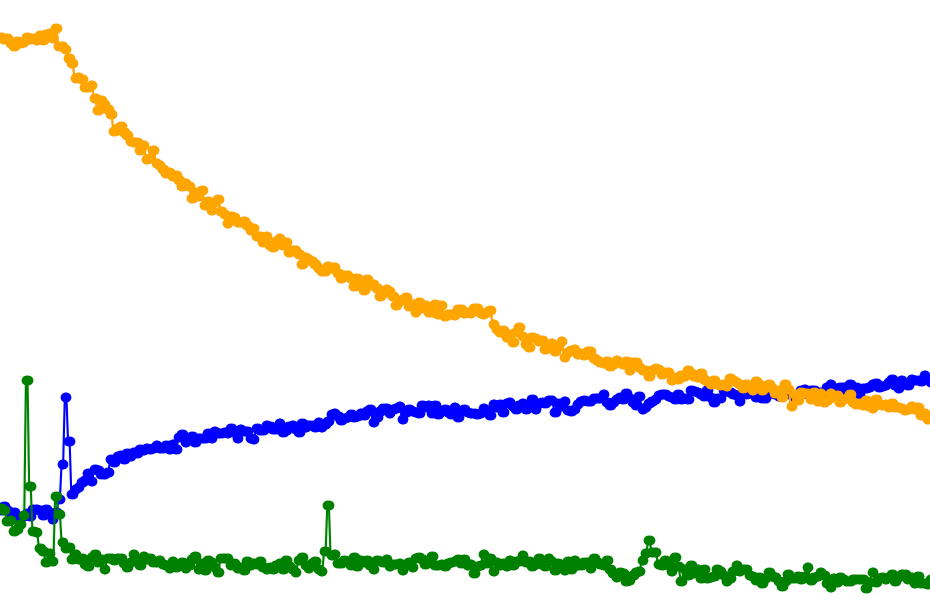CO2 Problem: (116, 0, 930, 616), (622, 0, 930, 616), (38, 0, 116, 616)
Condensation (CO2): (116, 0, 349, 616), (38, 0, 116, 616)
High CO2: (661, 0, 816, 616), (816, 0, 930, 616)
Lid Open: (816, 0, 930, 616)
Low CO2: (116, 0, 930, 616), (311, 0, 622, 616), (622, 0, 930, 616), (388, 0, 622, 616), (116, 0, 349, 616), (622, 0, 816, 616), (816, 0, 930, 616), (38, 0, 116, 616), (311, 0, 388, 616)
Normal: (38, 0, 930, 616), (116, 0, 930, 616), (388, 0, 930, 616), (116, 0, 622, 616), (38, 0, 505, 616), (194, 0, 622, 616), (38, 0, 349, 616), (311, 0, 622, 616), (622, 0, 930, 616), (388, 0, 622, 616), (622, 0, 816, 616), (116, 0, 272, 616), (661, 0, 816, 616), (194, 0, 311, 616), (0, 0, 116, 616), (816, 0, 930, 616), (38, 0, 116, 616), (116, 0, 194, 616), (311, 0, 388, 616)
O2 Problem: (116, 0, 930, 616), (311, 0, 622, 616), (622, 0, 930, 616), (388, 0, 622, 616), (622, 0, 816, 616), (116, 0, 272, 616), (816, 0, 930, 616), (194, 0, 272, 616), (311, 0, 388, 616)
